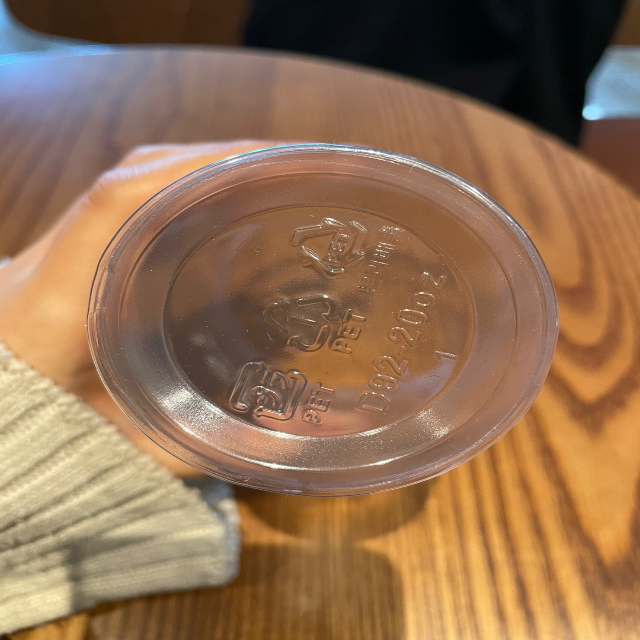pet: (285, 210, 404, 297), (227, 354, 336, 427), (260, 290, 366, 360)
